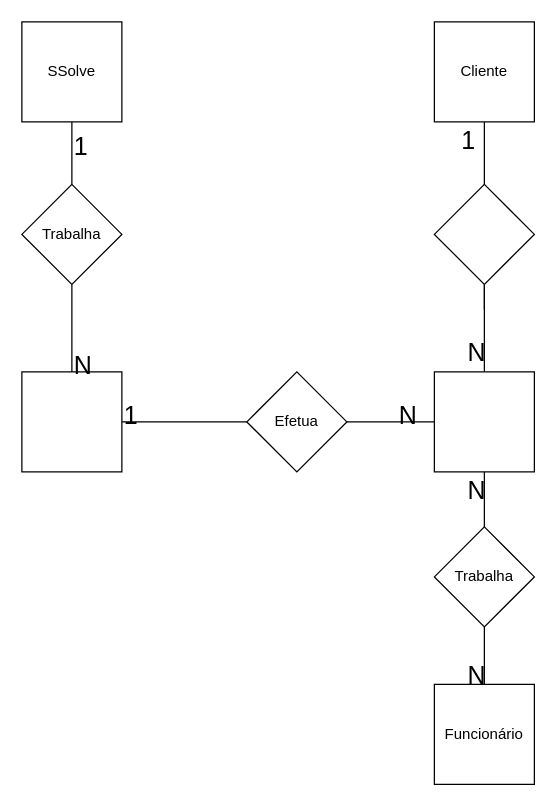
The diagram is 556 pixels wide and 806 high, and some of its shapes have lost their labels. Each missing label, with the box of its shape:
Contrata: (433, 183, 534, 284)
Empresa: (21, 371, 122, 472)
Serviços: (433, 371, 534, 472)
